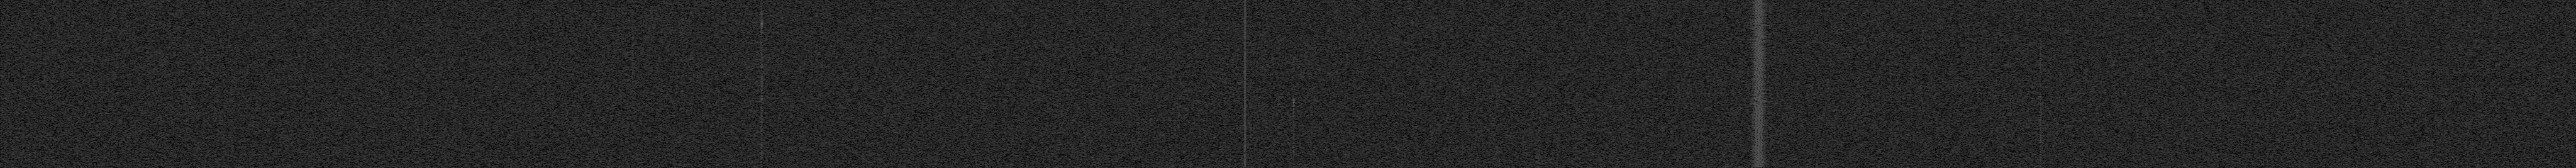wv_cw: (1244, 0, 1247, 152), (1244, 153, 1247, 168)
wv_lsb: (761, 59, 764, 138), (759, 10, 764, 58), (631, 35, 634, 84), (761, 153, 764, 168), (761, 138, 764, 147), (631, 94, 634, 100), (631, 28, 634, 35), (761, 2, 764, 8), (631, 104, 634, 109), (631, 87, 634, 92), (631, 21, 634, 26), (631, 160, 634, 165), (631, 150, 634, 155), (631, 109, 634, 112), (631, 100, 634, 104), (761, 148, 764, 152), (631, 128, 632, 133), (631, 122, 632, 125), (631, 13, 632, 16), (631, 147, 632, 150), (631, 140, 632, 143), (631, 135, 632, 138), (631, 3, 632, 5), (631, 145, 632, 147)
wv_usb: (2039, 43, 2042, 168), (759, 48, 762, 130), (759, 10, 762, 46), (1291, 140, 1296, 161), (1291, 99, 1296, 117), (759, 130, 762, 155), (2039, 2, 2042, 21), (759, 155, 762, 168), (759, 2, 762, 10), (2039, 35, 2042, 43), (1293, 117, 1295, 130), (2039, 26, 2042, 33), (1291, 58, 1295, 63), (1293, 132, 1295, 138), (1293, 163, 1295, 168), (1293, 68, 1295, 72), (1293, 2, 1295, 7), (1293, 12, 1295, 15), (2039, 23, 2042, 25), (1293, 64, 1295, 66)
wv_wbfm: (1743, 0, 1774, 168)
